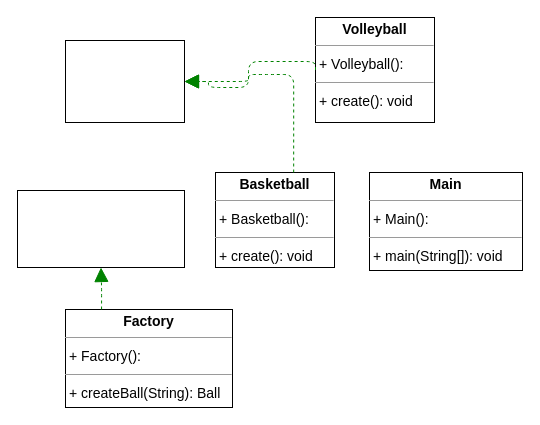
The diagram is 540 pixels wide and 425 high, and some of its shapes have lost their labels. Here are the shapes that lost their labels. From the top down, the centre of each, then its label:
At (x=124, y=81): "<<interface>> Ball + create(): void".
At (x=100, y=229): "<<interface>> FactoryBalls + createBall(String): Ball".
